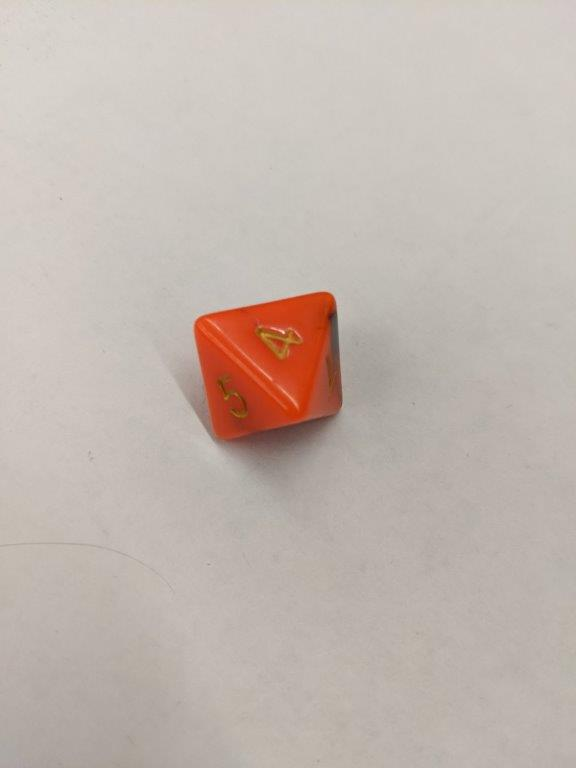d8-4: (194, 291, 345, 438)
